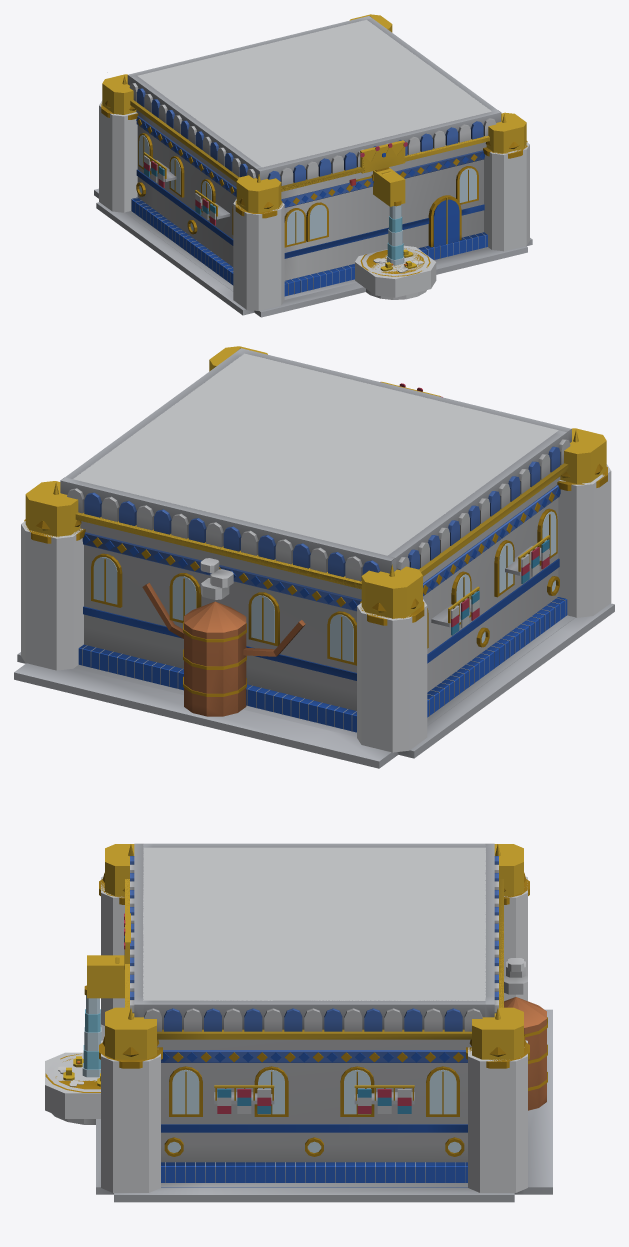
File: RoyalDuckFloor.fbx
3 renders of one model, top to bottom at view 1: azimuth 30°, elevation 25°; view 2: azimuth 150°, elevation 25°; view 3: azimuth 270°, elevation 25°, orthographic. The views are drawn at different scales.
Visible parts, largest first — view 1: RY_S_All, RY_F_Quiet, RY_F_Smooth, RY_F_Glass, RY_F_Rings, RY_F_Props; view 2: RY_S_All, RY_F_Quiet, RY_F_Smooth, RY_F_Rings, RY_F_Glass, RY_F_Props; view 3: RY_S_All, RY_F_Quiet, RY_F_Smooth, RY_F_Glass, RY_F_Rings, RY_F_Props.
Part boxes in pixels (x1,y1,x2,y2): RY_S_All: (99, 14, 529, 310); RY_F_Quiet: (94, 16, 532, 312); RY_F_Smooth: (94, 75, 532, 317); RY_F_Glass: (139, 135, 476, 265); RY_F_Rings: (132, 117, 486, 283); RY_F_Props: (101, 100, 527, 272); RY_S_All: (21, 346, 611, 752); RY_F_Quiet: (14, 348, 614, 761); RY_F_Smooth: (14, 347, 614, 768); RY_F_Rings: (79, 486, 565, 716); RY_F_Glass: (93, 511, 556, 662); RY_F_Props: (24, 464, 607, 656); RY_S_All: (45, 844, 527, 1192); RY_F_Quiet: (52, 843, 552, 1194); RY_F_Smooth: (45, 844, 552, 1202); RY_F_Glass: (82, 995, 461, 1152); RY_F_Rings: (161, 1019, 546, 1165); RY_F_Props: (58, 872, 546, 1086).
Size of the model in its own units: 60 by 20 by 60.
